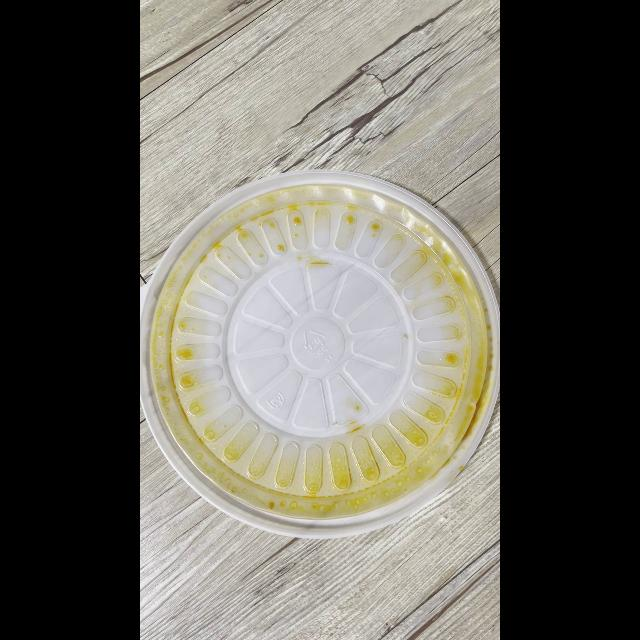dirty: (150, 169, 500, 529)
